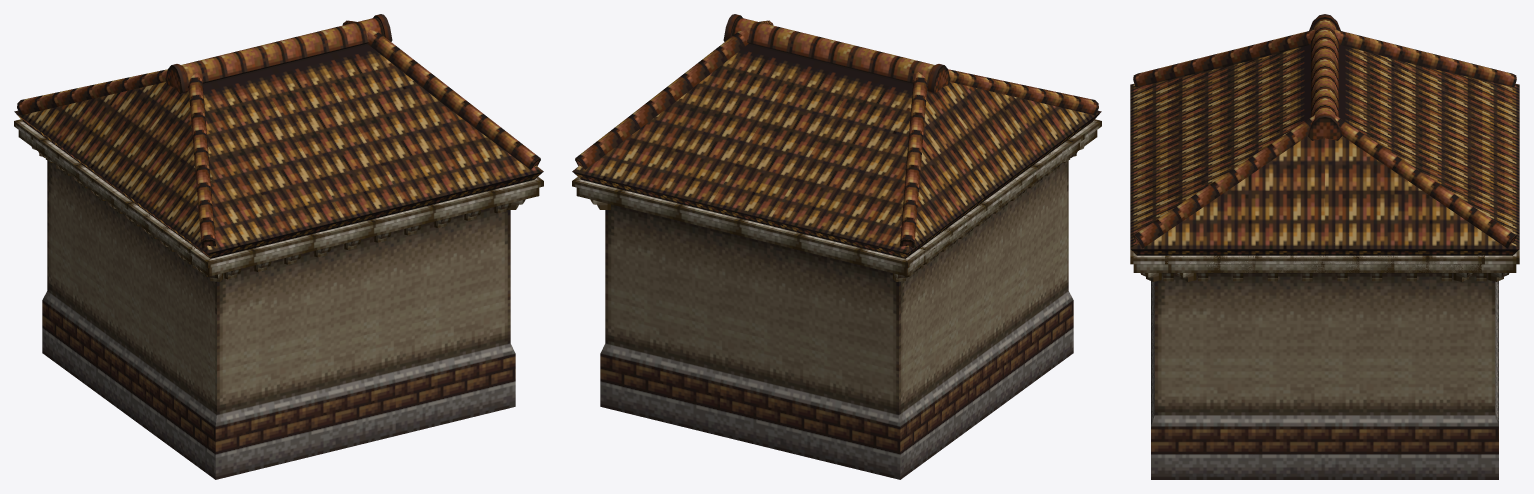
File: EnvBdgMD_Sea_A_Outdoor_House_G.FBX
3 views of the same model, side by side, from view 1: azimuth 30°, elevation 25°; view 2: azimuth 150°, elevation 25°; view 3: azimuth 270°, elevation 25° (orthographic).
Visible parts, largest first — view 1: EnvBdgMD_Sea_A_Outdoor_House_G; view 2: EnvBdgMD_Sea_A_Outdoor_House_G; view 3: EnvBdgMD_Sea_A_Outdoor_House_G.
Part boxes in pixels (left/top/right/bottom): EnvBdgMD_Sea_A_Outdoor_House_G: left=14, top=14, right=543, bottom=479; EnvBdgMD_Sea_A_Outdoor_House_G: left=572, top=14, right=1101, bottom=479; EnvBdgMD_Sea_A_Outdoor_House_G: left=1130, top=14, right=1519, bottom=479.
Bounding box in the file's own units: 566 × 541 × 560.
2 materials, 2 textured.
